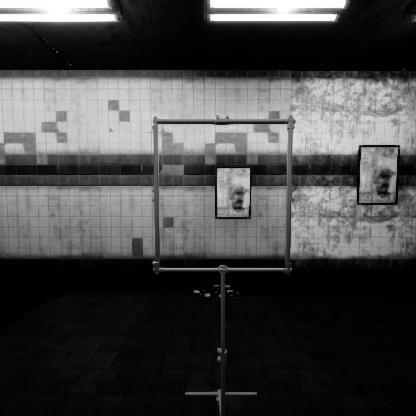gate: (153, 141, 308, 298)
